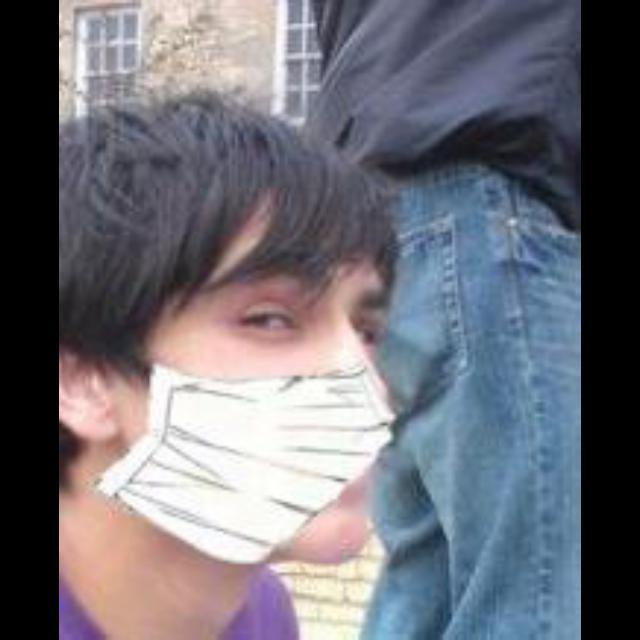suspicion: (105, 197, 407, 566)
